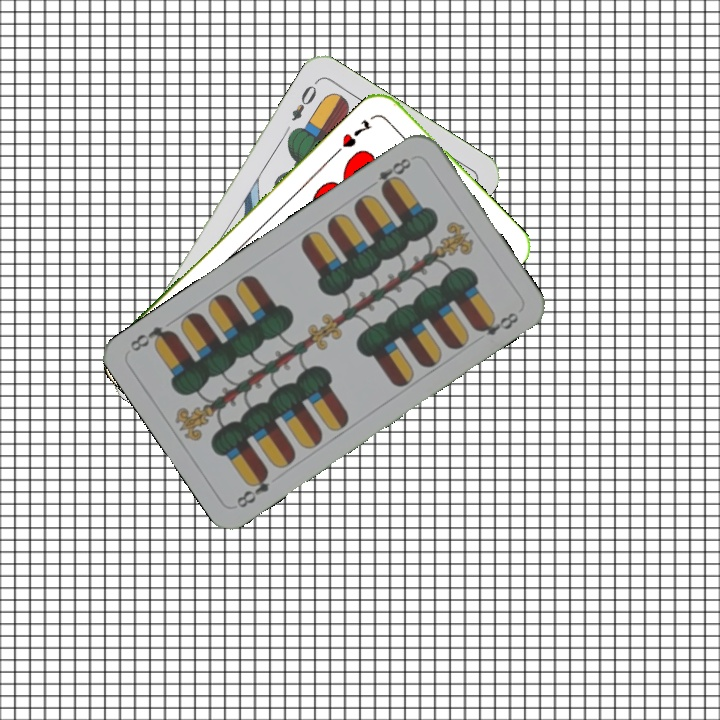E8: (365, 154, 414, 195), (232, 467, 272, 511)
EO: (287, 76, 320, 124)
H7: (338, 115, 374, 151)
